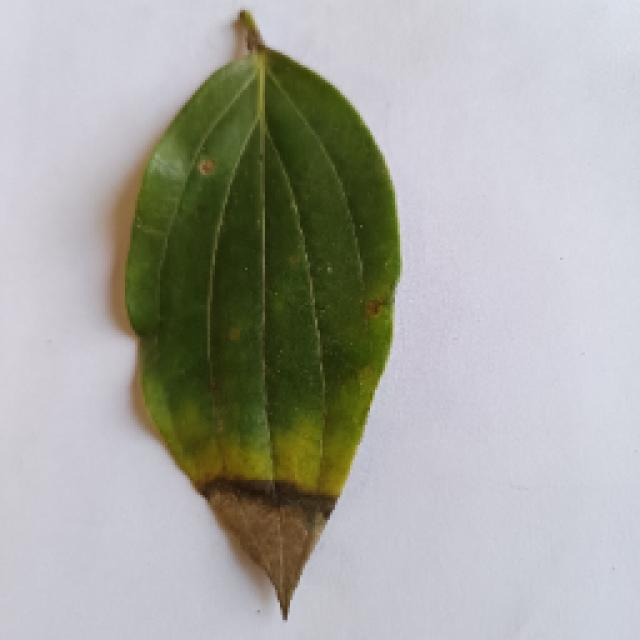footrot: (117, 20, 405, 618)
